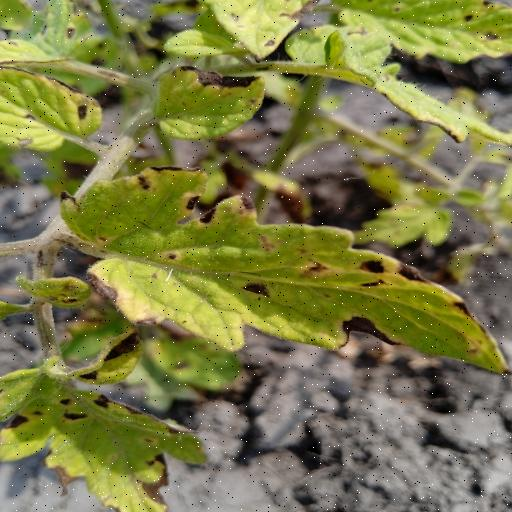Tomato_Brown_Spots: (56, 158, 512, 379), (0, 359, 215, 512), (332, 0, 512, 61), (0, 57, 110, 154), (144, 63, 272, 143)
